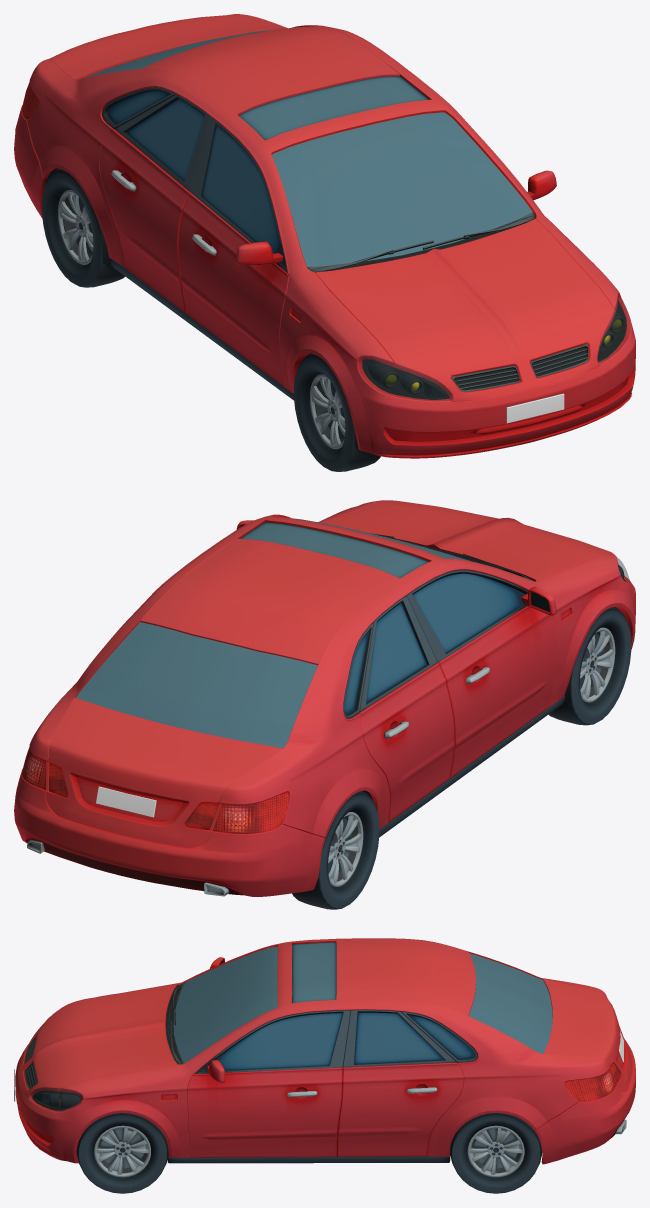
3 views of the same model, one above another, from view 1: azimuth 30°, elevation 25°; view 2: azimuth 150°, elevation 25°; view 3: azimuth 270°, elevation 25° (orthographic). The views are drawn at different scales.
Parts seen in each view (by area): view 1: car.1_1; view 2: car.1_1; view 3: car.1_1.
Boxes of the visible parts, x1=… form: car.1_1: x1=14, y1=14, x2=635, y2=471; car.1_1: x1=14, y1=500, x2=635, y2=909; car.1_1: x1=14, y1=938, x2=635, y2=1193.
Size of the model in its own units: 1.35 by 0.9827 by 3.08.
2 materials, 2 textured.
